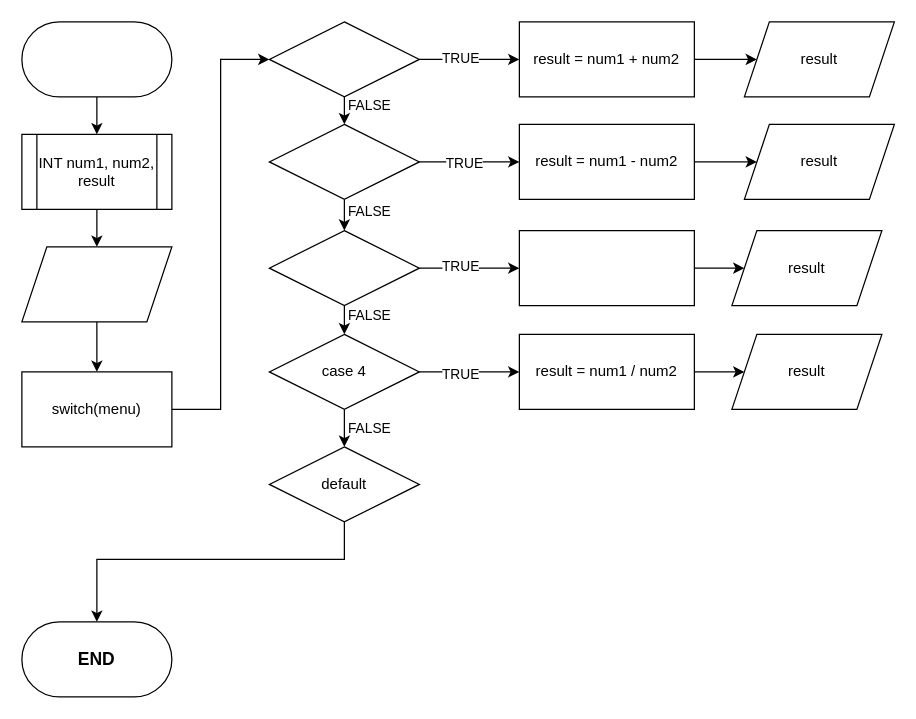
Image size: 916x719. Some labels were removed from this diagram. Each missing label, with the centre of its shape:
case 1: the point at 343,59
case 2: the point at 343,161
case 3: the point at 343,267
menu: the point at 96,284
result = num1 * num2: the point at 606,267
START: the point at 96,59
